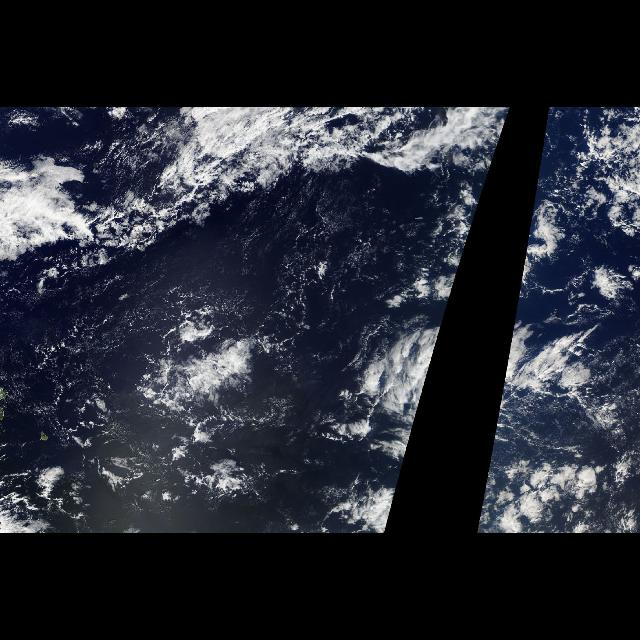Fish: (2, 108, 512, 272), (522, 108, 570, 272)
Gravel: (27, 259, 155, 499)
